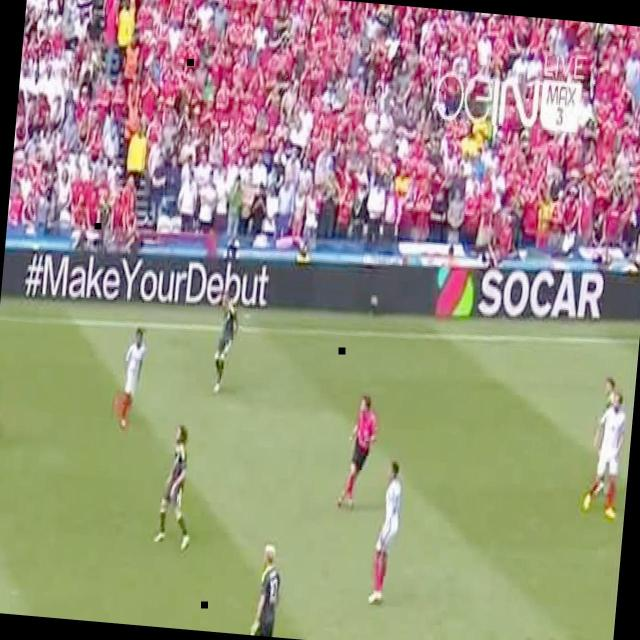player-white: (151, 422, 198, 554), (581, 390, 627, 520), (232, 537, 290, 638), (367, 458, 405, 611), (335, 395, 380, 515), (588, 376, 620, 498), (112, 328, 146, 432), (208, 294, 242, 397), (0, 334, 7, 446)
